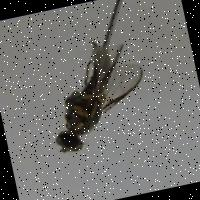Oriental-fruit-fly: (34, 35, 156, 165)
